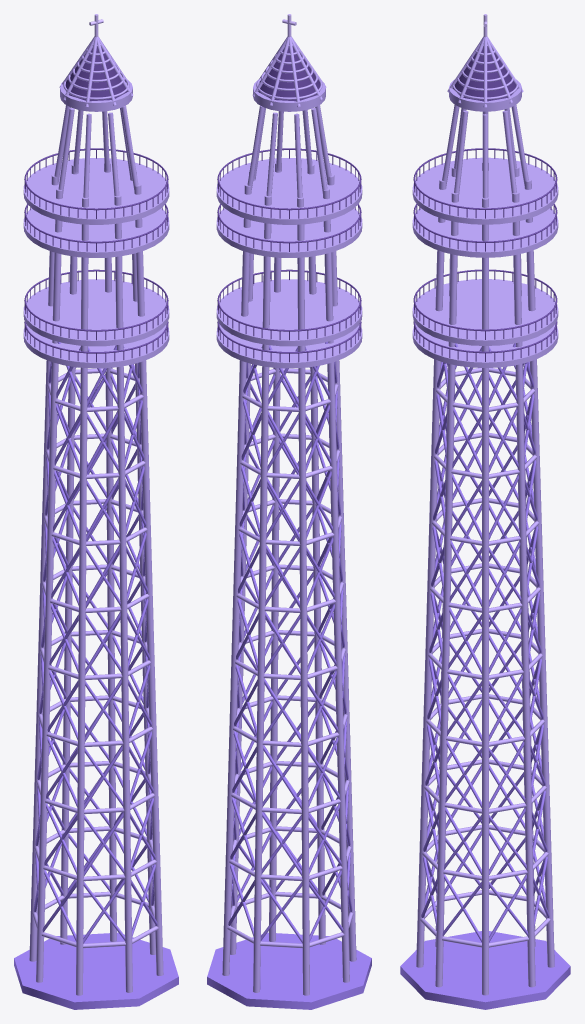
File: perret_violet_light.glb
3 renders of one model, left to right at view 1: azimuth 30°, elevation 25°; view 2: azimuth 150°, elevation 25°; view 3: azimuth 270°, elevation 25°, orthographic.
Visible parts, largest first — view 1: Lavender carved stone, Violet stone, Violet structural steel, Violet slate; view 2: Lavender carved stone, Violet stone, Violet structural steel, Violet slate; view 3: Lavender carved stone, Violet stone, Violet structural steel, Violet slate.
Boxes of the visible parts, x1,y1,x2,y2 form: Lavender carved stone: (23,36,169,995); Violet stone: (14,341,178,1009); Violet structural steel: (24,148,168,362); Violet slate: (65,47,127,101); Lavender carved stone: (216,36,362,995); Violet stone: (207,341,371,1009); Violet structural steel: (217,148,361,362); Violet slate: (258,47,320,101); Lavender carved stone: (412,36,558,995); Violet stone: (400,343,570,1009); Violet structural steel: (413,148,557,361); Violet slate: (452,47,518,101).
Bounding box in the file's own units: 13.84 × 86 × 13.84.
